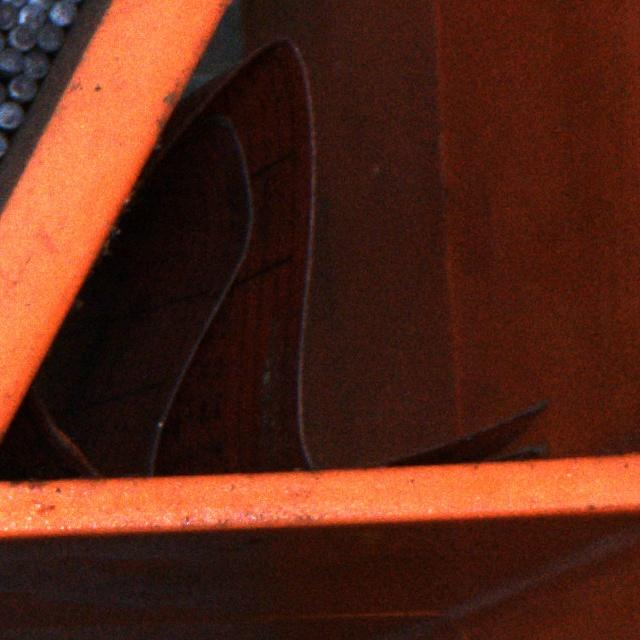tool: (35, 23, 63, 50), (21, 51, 48, 78), (48, 0, 76, 25), (8, 75, 36, 100), (8, 24, 35, 49), (18, 4, 46, 28), (0, 101, 22, 127), (0, 48, 23, 72), (0, 1, 18, 30), (28, 0, 56, 10)
